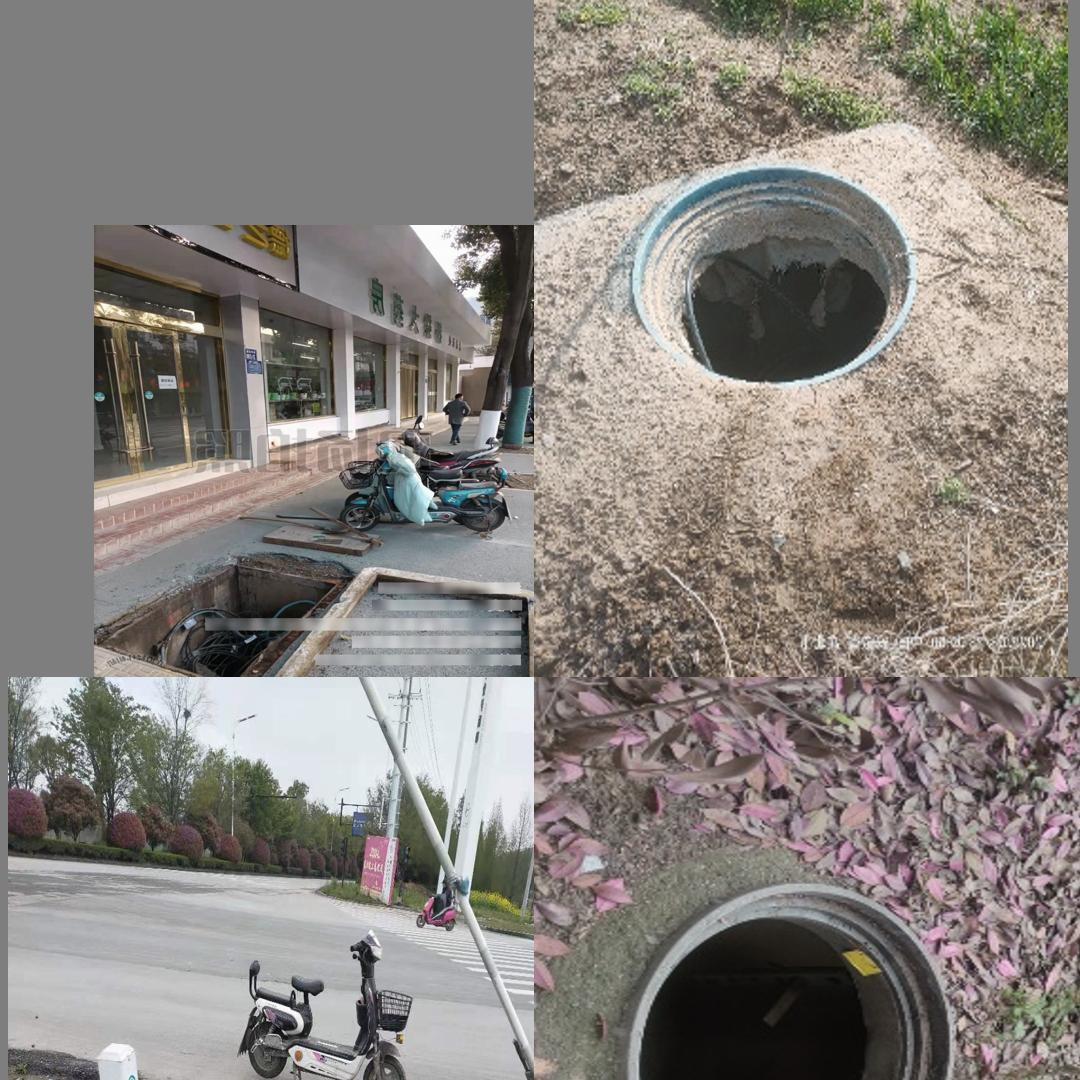lose: (611, 161, 922, 392), (625, 880, 956, 1080), (95, 560, 349, 677)
